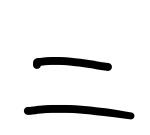eqv: (24, 57, 135, 119)
